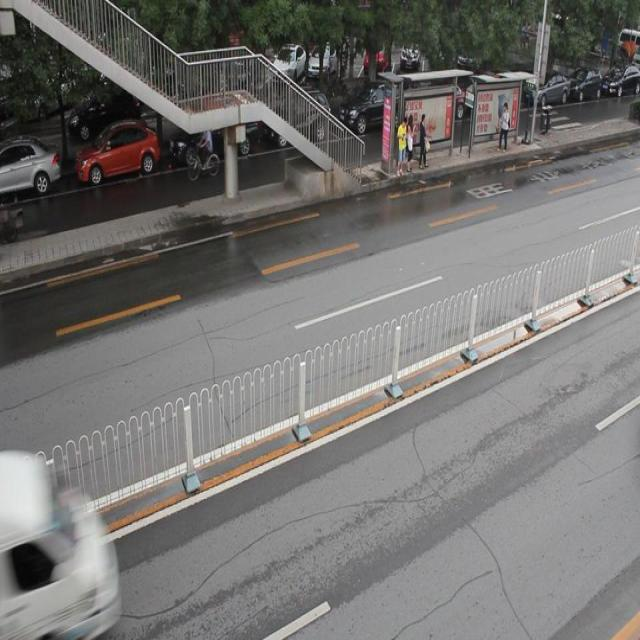car: (168, 104, 254, 167), (76, 120, 158, 185), (336, 80, 408, 138), (262, 90, 328, 147), (1, 136, 58, 200)
truck: (1, 466, 115, 640)
